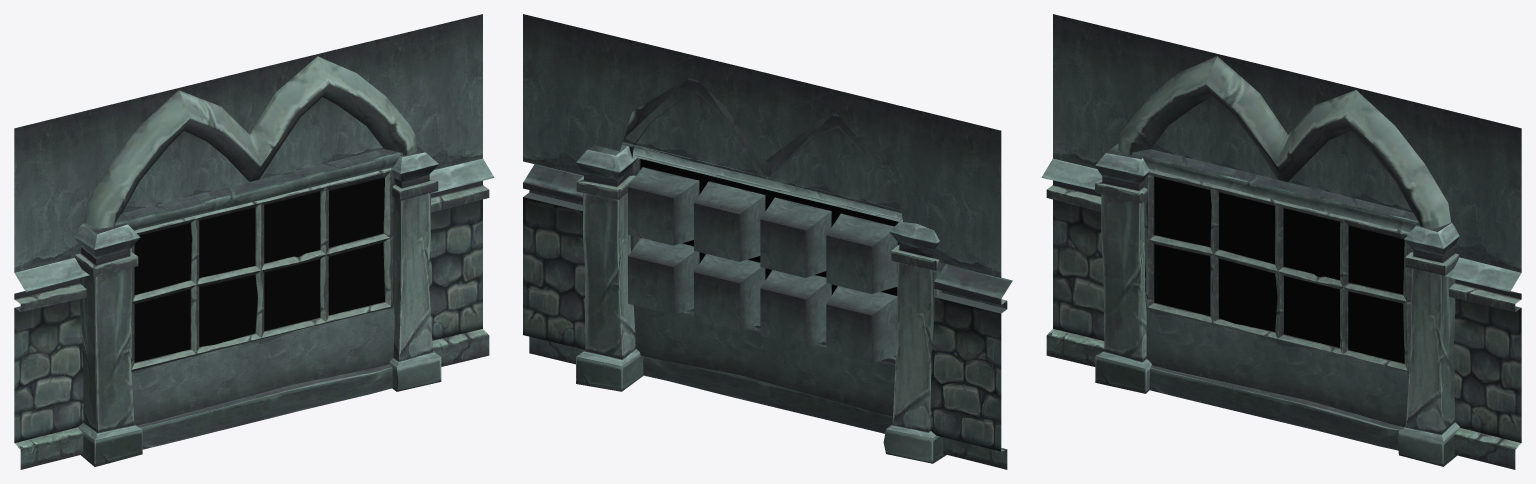
The model's file is crypt_doublewall_straight_01.fbx.
The picture shows the model from 3 angles, left to right: view 1: azimuth 30°, elevation 25°; view 2: azimuth 150°, elevation 25°; view 3: azimuth 330°, elevation 25°; orthographic projection. The views are drawn at different scales.
Parts seen in each view (by area): view 1: crypt_doublewall_straight_01-0; view 2: crypt_doublewall_straight_01-0; view 3: crypt_doublewall_straight_01-0.
Boxes of the visible parts, x1,y1,x2,y2 form: crypt_doublewall_straight_01-0: [14, 14, 494, 469]; crypt_doublewall_straight_01-0: [523, 14, 1012, 469]; crypt_doublewall_straight_01-0: [1041, 14, 1521, 469].
Size of the model in its own units: 8 by 5.55 by 0.8991.
